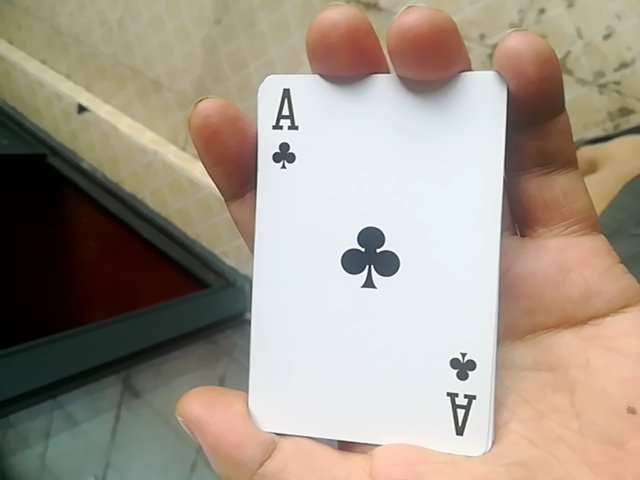mh a: (257, 58, 513, 457)
